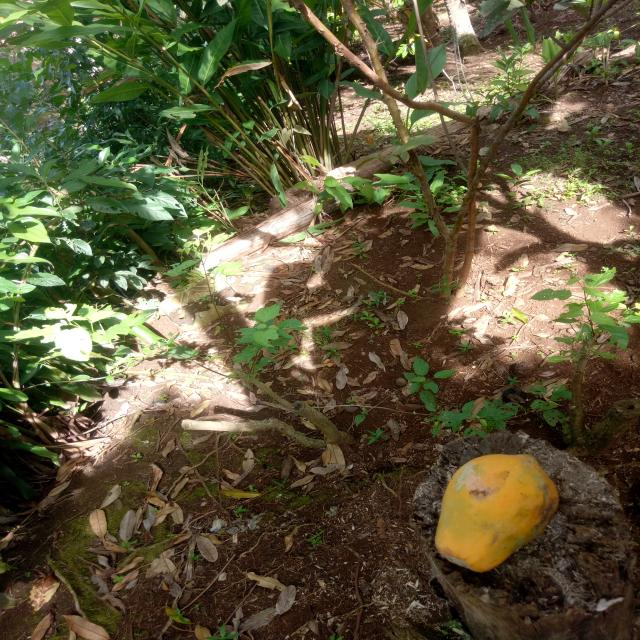Pepaya rippen: (436, 449, 569, 584)
